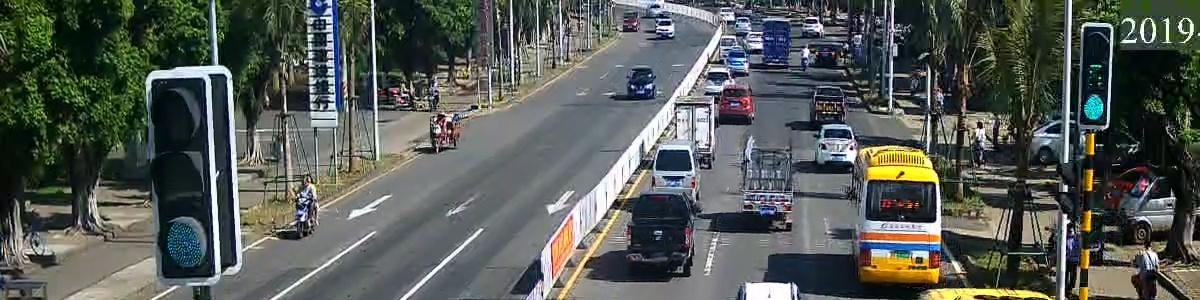green: (148, 209, 234, 275), (1065, 92, 1133, 141)
